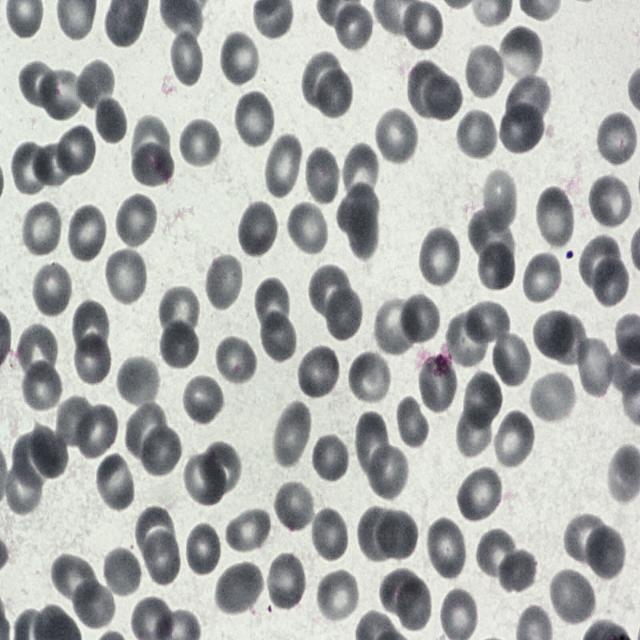red blood cell: (35, 63, 87, 123), (547, 565, 597, 627), (339, 184, 382, 256), (49, 553, 101, 610), (444, 310, 491, 372), (214, 561, 265, 618), (417, 226, 462, 290), (352, 413, 392, 485), (15, 322, 60, 386), (1, 456, 46, 520), (424, 517, 468, 582), (374, 106, 420, 168), (271, 400, 312, 469), (374, 294, 418, 358), (456, 465, 504, 523), (416, 353, 458, 419), (104, 246, 148, 308), (498, 25, 544, 84), (477, 168, 518, 234), (503, 71, 555, 123), (73, 400, 118, 460), (460, 367, 502, 431), (529, 370, 577, 426), (492, 409, 536, 470), (467, 206, 513, 264), (534, 186, 575, 251), (322, 283, 366, 343), (233, 89, 276, 150), (114, 193, 159, 251), (348, 349, 392, 408), (576, 334, 617, 397), (24, 426, 70, 482), (296, 344, 341, 401), (156, 282, 201, 339), (66, 203, 108, 264), (490, 329, 532, 390), (316, 568, 360, 626), (595, 110, 639, 168), (95, 452, 137, 512), (218, 30, 262, 87), (224, 503, 272, 555), (31, 260, 74, 318), (21, 200, 64, 258), (266, 551, 306, 613), (302, 145, 342, 207), (237, 200, 279, 259), (464, 42, 506, 101), (286, 200, 330, 256), (273, 478, 317, 534), (398, 292, 442, 348), (204, 252, 245, 312), (181, 372, 225, 427), (20, 359, 63, 415), (125, 403, 168, 459), (11, 432, 53, 489), (116, 356, 160, 410), (455, 107, 498, 162), (54, 124, 97, 179), (144, 528, 184, 587), (254, 274, 292, 336), (10, 144, 56, 195), (580, 525, 625, 577), (179, 116, 222, 170), (402, 1, 445, 55), (454, 401, 492, 462), (309, 264, 350, 320), (476, 235, 516, 292), (521, 252, 563, 306), (159, 317, 200, 372), (478, 527, 519, 582), (589, 178, 633, 229), (500, 103, 544, 154), (309, 507, 349, 563), (302, 54, 342, 110), (258, 308, 298, 364), (101, 546, 142, 600), (75, 59, 116, 113), (579, 238, 620, 292), (333, 0, 374, 54), (138, 427, 184, 475), (72, 331, 112, 386), (72, 578, 116, 628), (55, 394, 95, 449), (342, 145, 378, 206), (184, 521, 223, 577), (378, 512, 420, 564), (169, 29, 206, 88), (408, 59, 445, 118), (367, 446, 408, 499), (310, 430, 350, 484), (18, 59, 57, 114), (464, 302, 510, 348), (564, 515, 608, 563), (266, 136, 300, 198), (71, 301, 110, 355), (213, 331, 255, 381), (496, 545, 538, 595), (200, 442, 240, 492), (392, 396, 429, 450), (186, 456, 225, 507), (136, 506, 175, 557), (32, 144, 77, 188), (358, 507, 394, 561), (377, 567, 419, 613), (132, 143, 174, 189), (423, 74, 464, 121), (314, 70, 354, 118), (534, 309, 572, 359), (551, 316, 588, 367), (133, 117, 172, 165), (592, 257, 627, 306), (398, 580, 432, 630), (95, 96, 127, 142)
